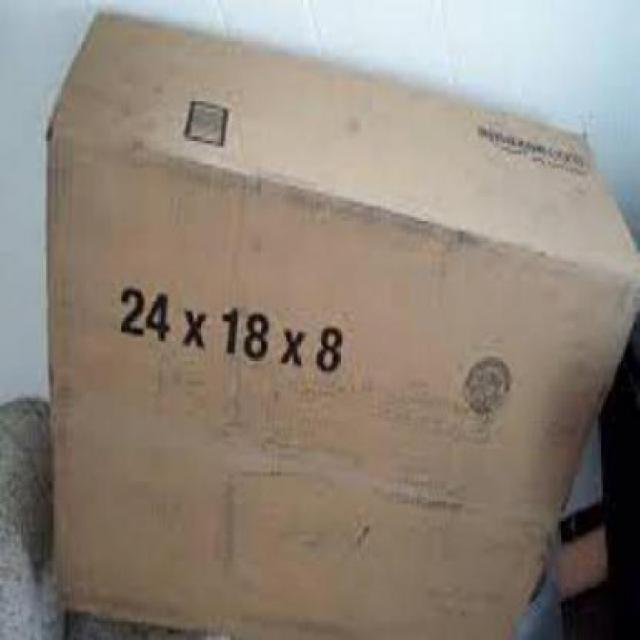box: (44, 13, 640, 640)
